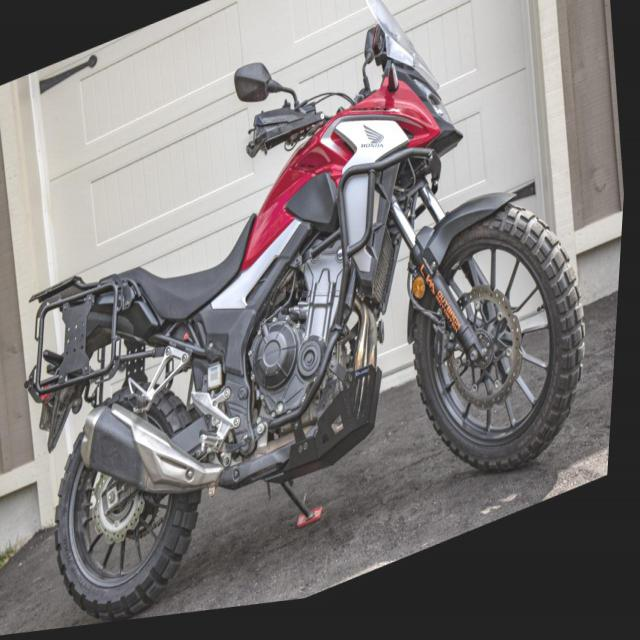CB500X: (0, 0, 625, 638)
